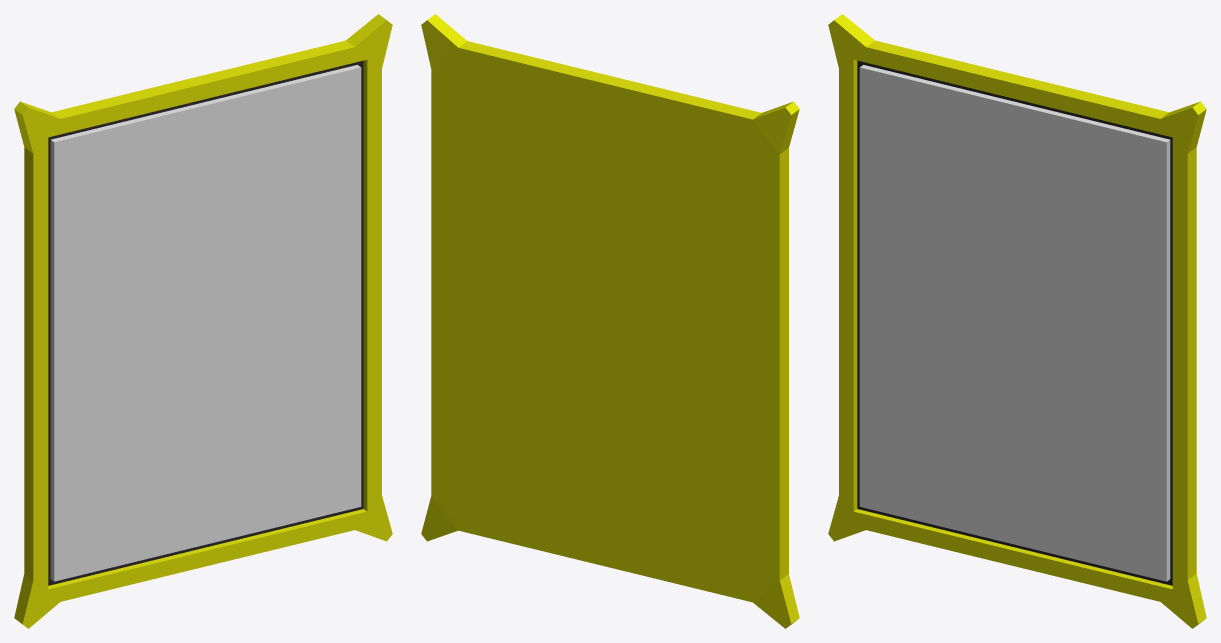
File: Picture.fbx
3 renders of one model, left to right at view 1: azimuth 30°, elevation 25°; view 2: azimuth 150°, elevation 25°; view 3: azimuth 330°, elevation 25°, orthographic.
Parts seen in each view (by area): view 1: Picture; view 2: Picture; view 3: Picture.
Part boxes in pixels (box(x1,y1,x2,y2)): Picture: box(14, 14, 392, 628); Picture: box(421, 14, 799, 628); Picture: box(828, 14, 1206, 628).
Bounding box in the file's own units: 120 × 162 × 5.15.
